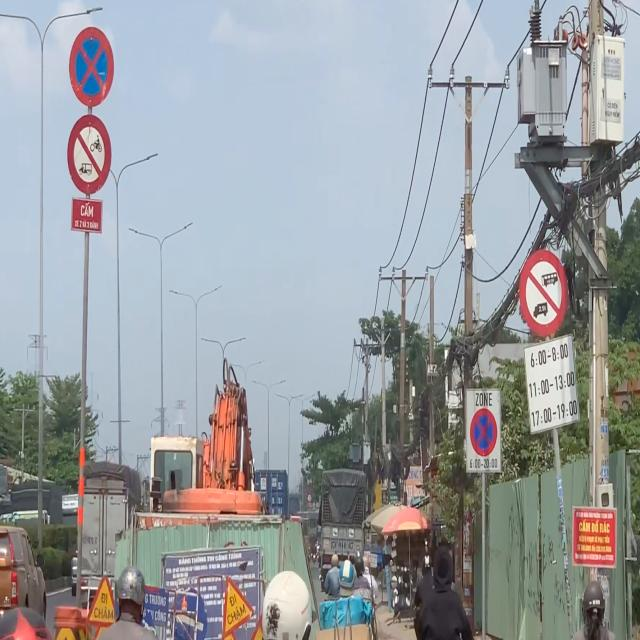Cam con lai: (516, 249, 569, 341), (66, 114, 112, 196)
Cam dung va do: (66, 23, 116, 110), (468, 407, 498, 458)
Nguy hiem: (221, 581, 251, 629), (88, 576, 117, 621)
